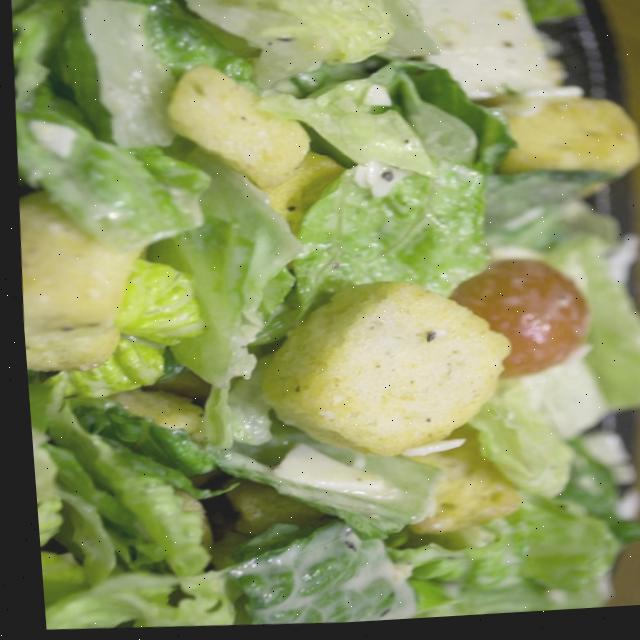蔬菜料理: (3, 0, 640, 640)
